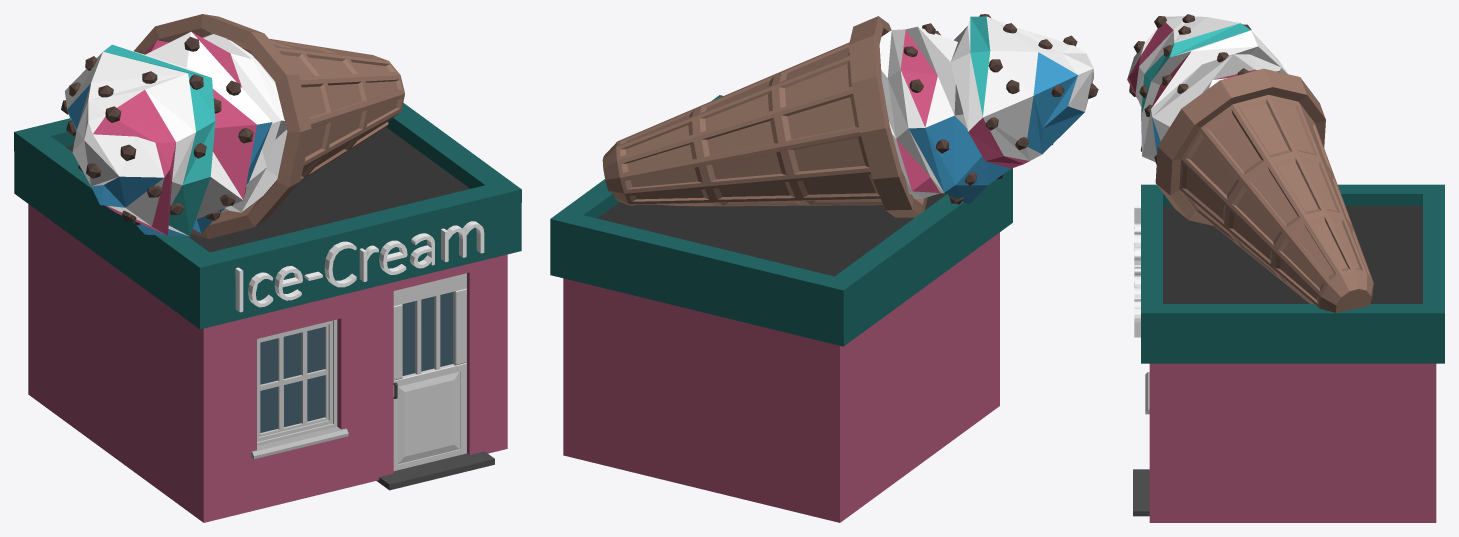
Rendered from kiosk-ice-cream.glb.
The picture shows the model from 3 angles, left to right: view 1: azimuth 30°, elevation 25°; view 2: azimuth 150°, elevation 25°; view 3: azimuth 270°, elevation 25°; orthographic projection. The views are drawn at different scales.
Parts seen in each view (by area): view 1: ice-cream; view 2: ice-cream; view 3: ice-cream.
Part boxes in pixels (x1,y1,x2,y2): ice-cream: (14,14,521,522); ice-cream: (550,14,1098,522); ice-cream: (1127,14,1444,522).
Bounding box in the file's own units: 5.61 × 5.63 × 4.43.
Materials: 1 (1 with a texture image).
